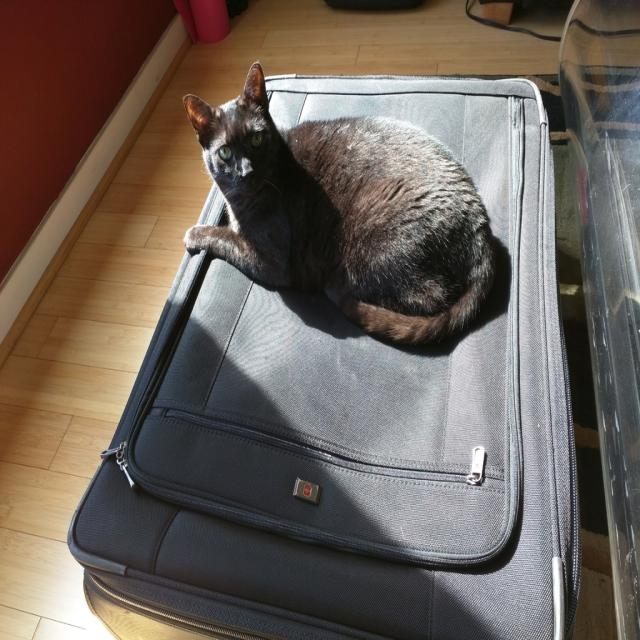Cat: (175, 56, 494, 352)
